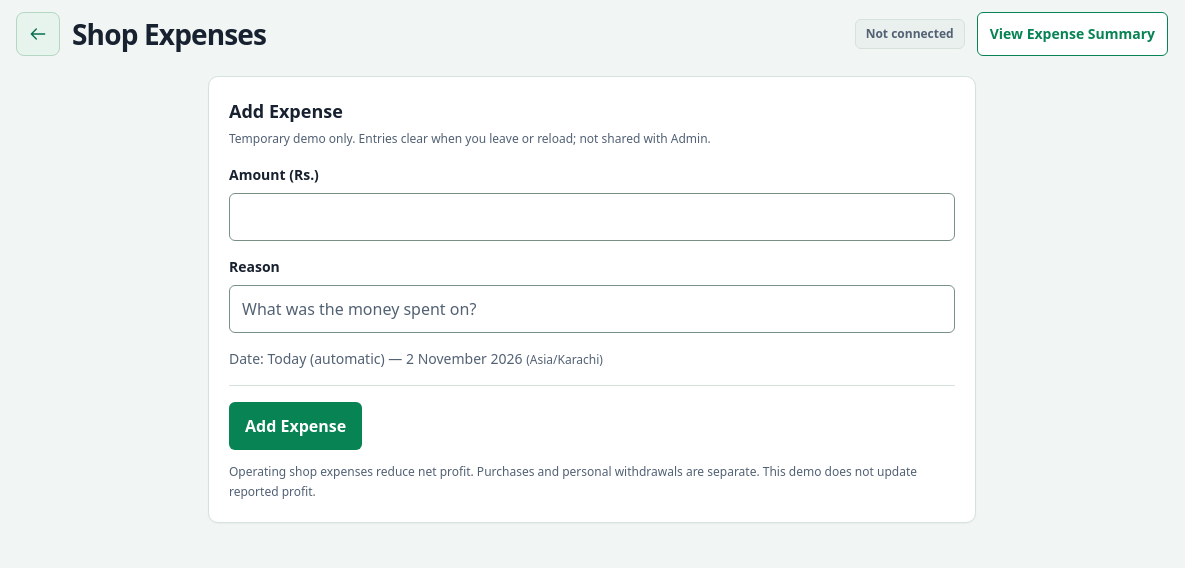
Scenario: role-placed temporary demo previews › rejects unsafe expense amount 0 and focuses its error
Type "Cleaning" into the field labelled "Reason" at x=592, y=309, box x1=229 y1=285 x2=955 y2=333
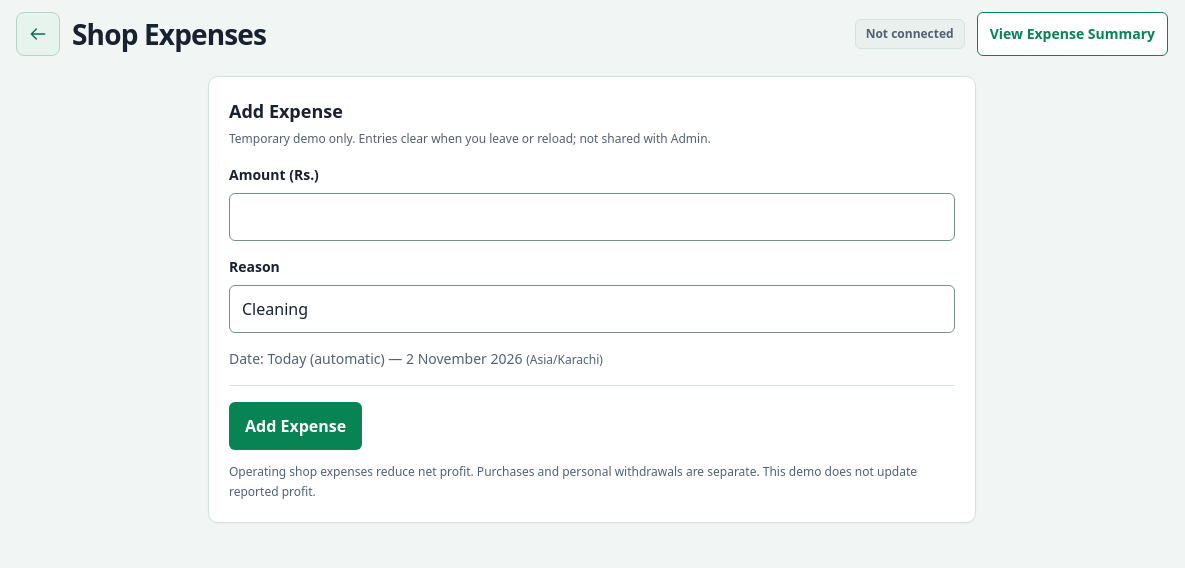
Type "0" into the field labelled "Amount (Rs.)" at x=592, y=217, box x1=229 y1=193 x2=955 y2=241
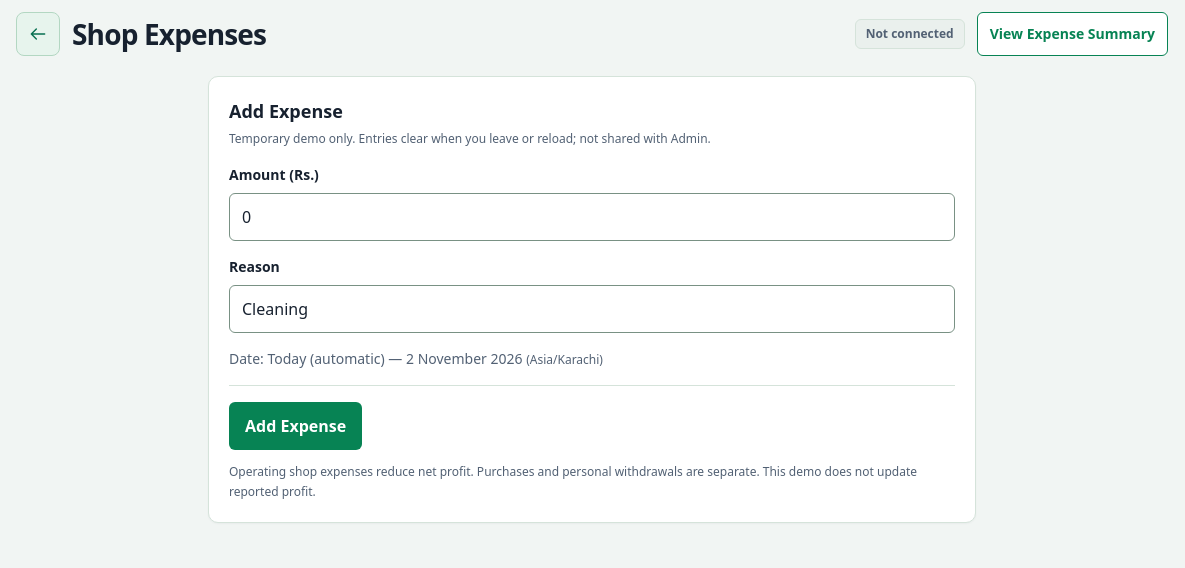
Click the button "Add Expense" at x=296, y=426, box x1=229 y1=402 x2=362 y2=450
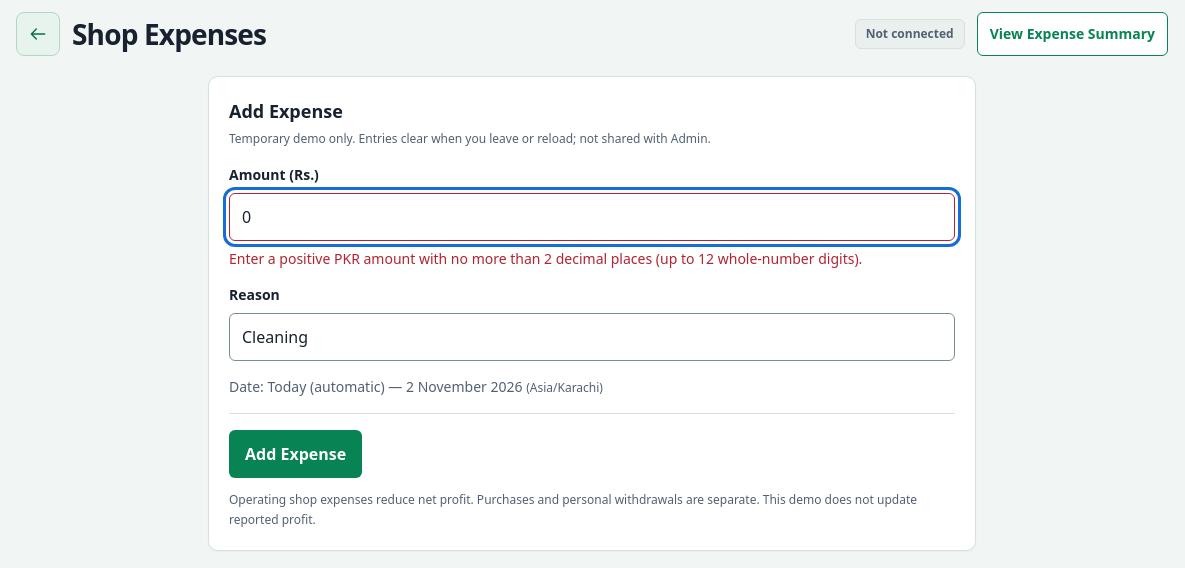
Expected: the message shows "Enter a positive PKR amount", x1=229 y1=249 x2=862 y2=268
